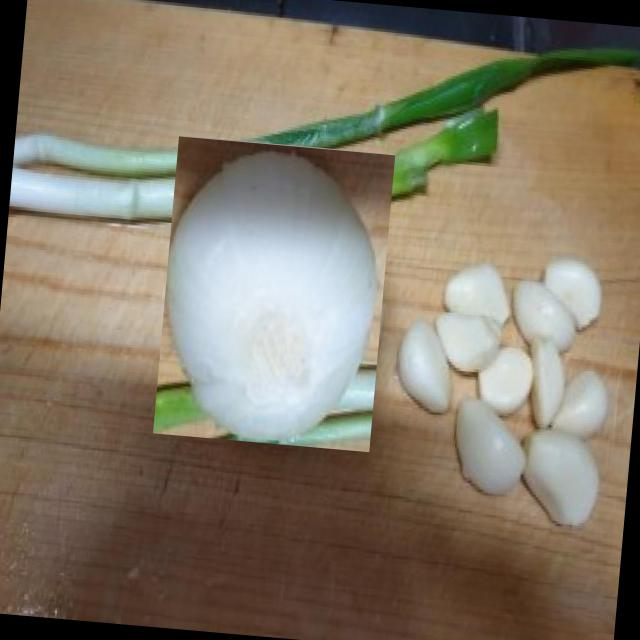Onion: (152, 135, 396, 452)
